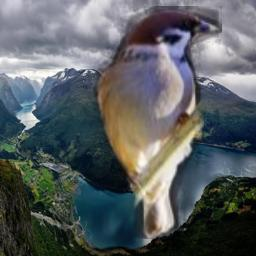Sparrow: (92, 6, 222, 239)
